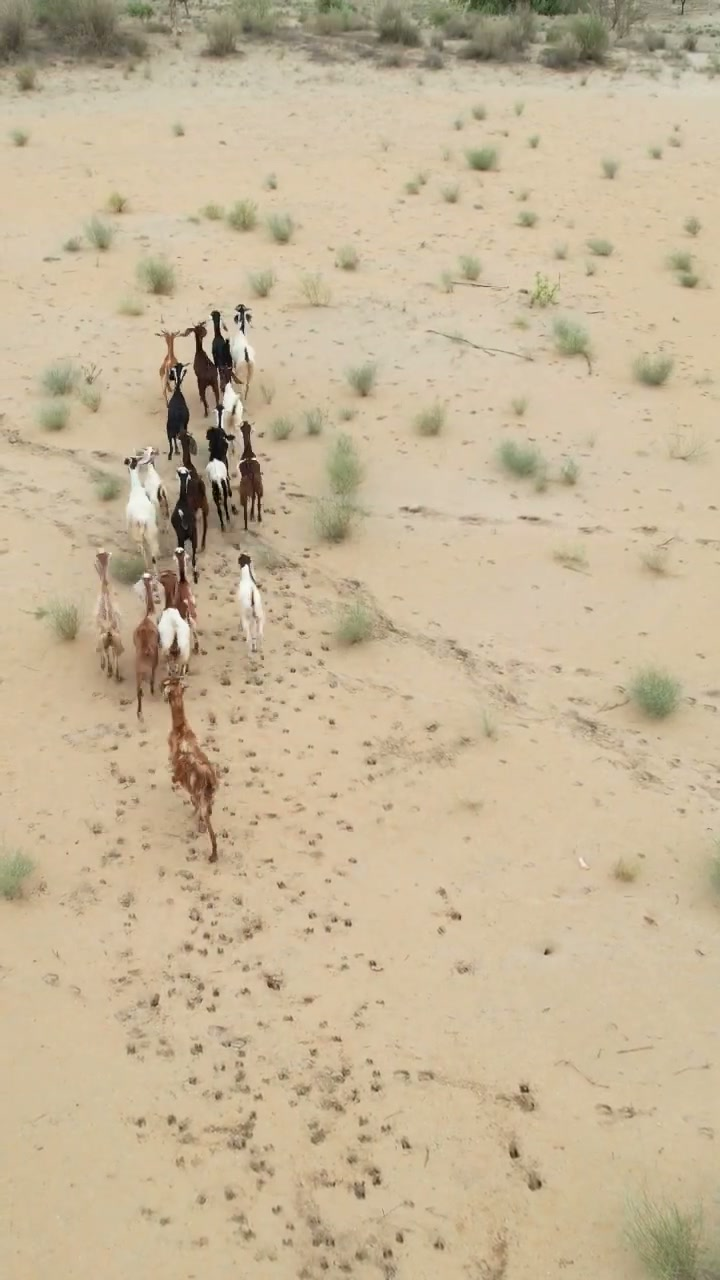animal_footprint: (112, 622, 449, 1256)
